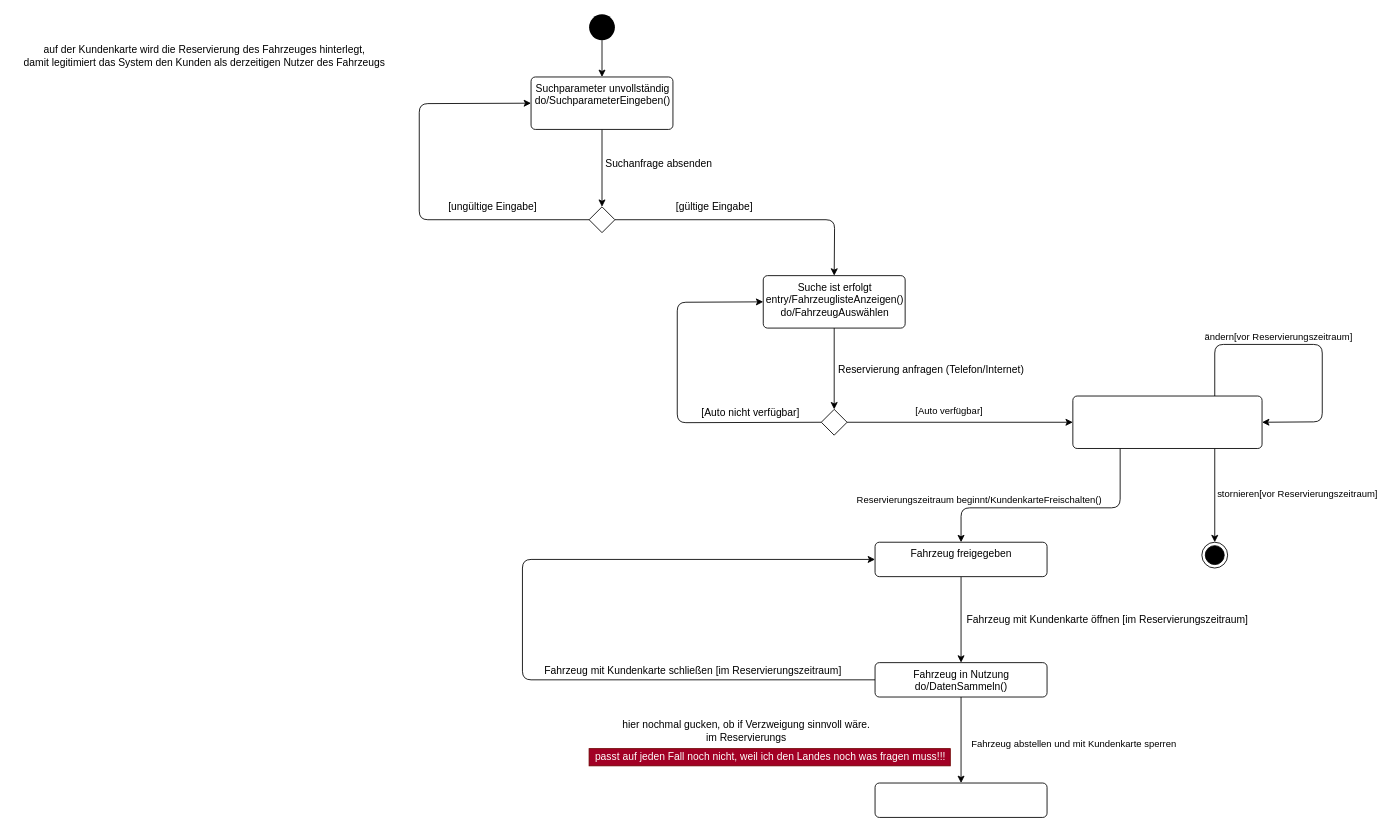
This 1391x833 diagram has some shape labels left out. Here are the shapes that lost their labels. From the top down, the box of each, then its label:
(1072, 395, 1262, 448): Rerservierung getätigt entry/reservierungsbestätigungSenden()
(874, 782, 1047, 817): Fahrzeug gesperrt entry/freischaltungAufheben()
